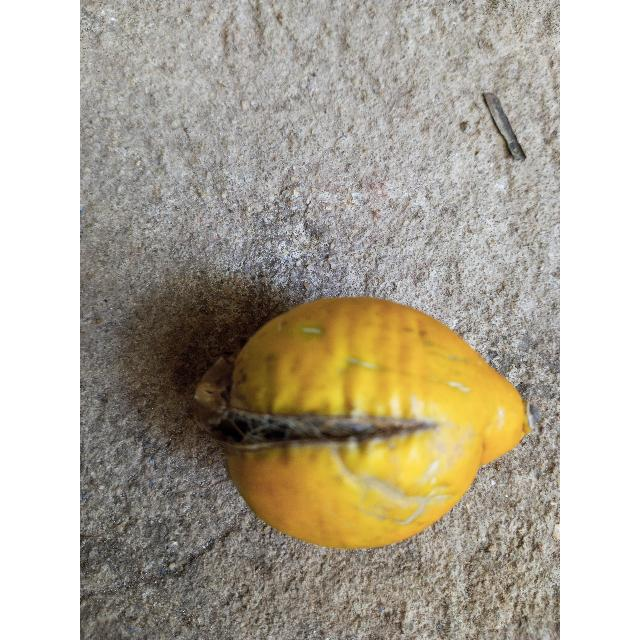damaged: (194, 297, 531, 554)
